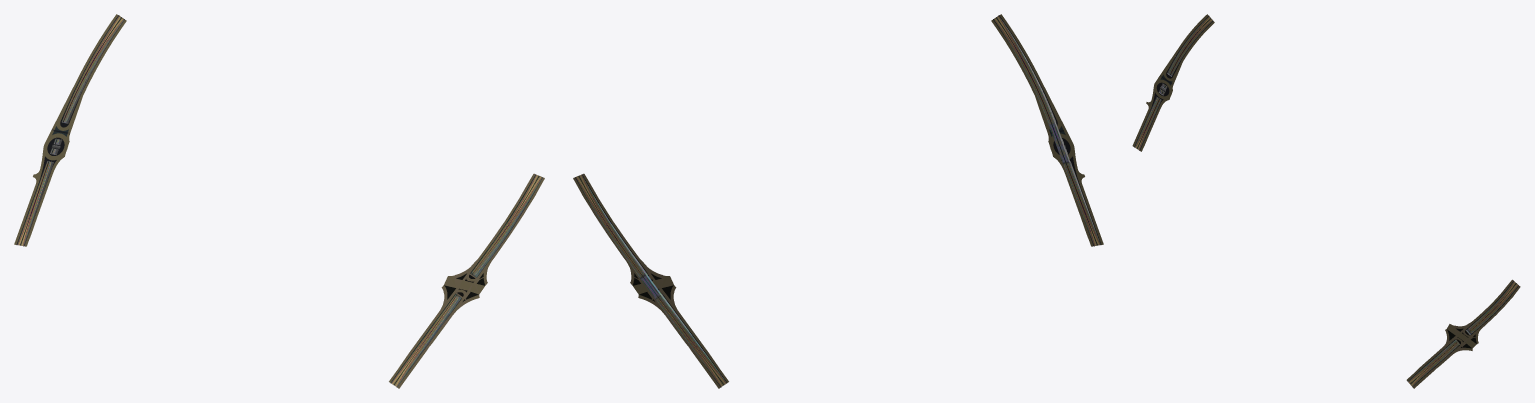
3 views of the same model, side by side, from view 1: azimuth 30°, elevation 25°; view 2: azimuth 150°, elevation 25°; view 3: azimuth 330°, elevation 25° (orthographic). The views are drawn at different scales.
Visible parts, largest first — view 1: world; view 2: world; view 3: world.
Part boxes in pixels (x1,y1,x2,y2): world: (14,14,544,388); world: (573,14,1103,388); world: (1132,14,1520,388).
Size of the model in its own units: 1479 by 1182 by 9.
Materials: 1 (1 with a texture image).
